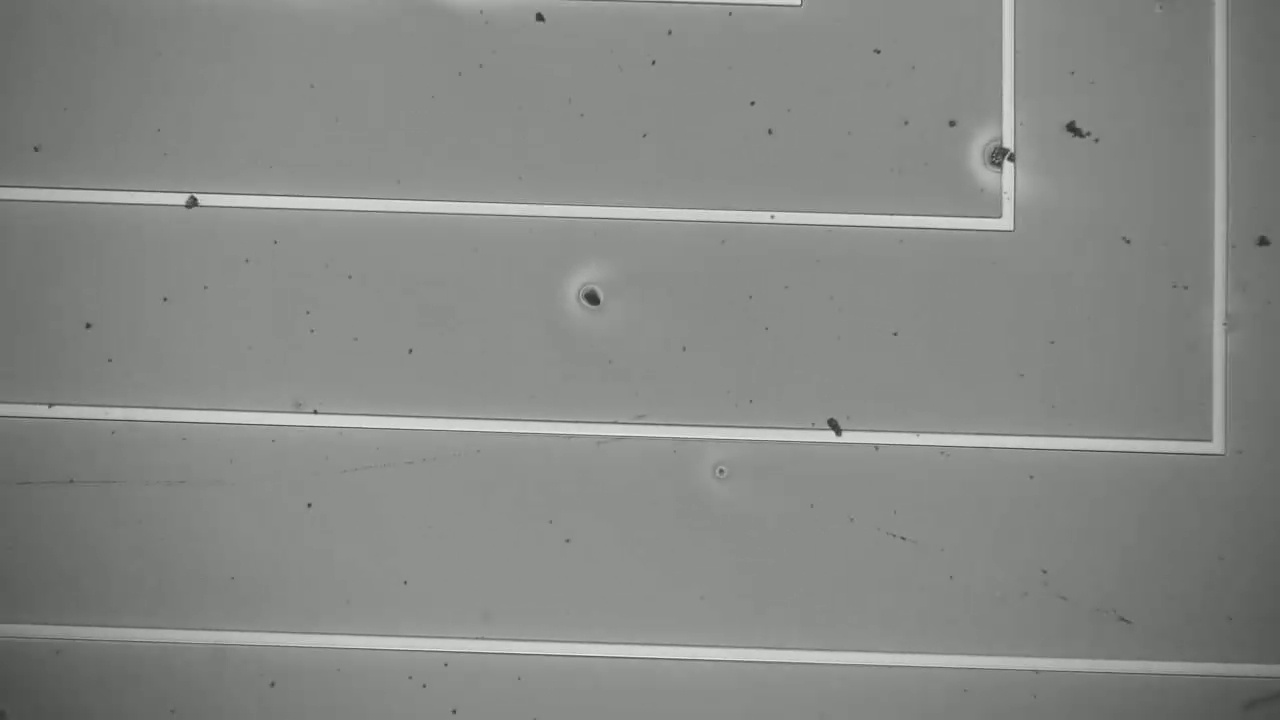stains_enbedded: (994, 142, 1026, 175), (823, 409, 846, 453), (179, 182, 203, 214)
